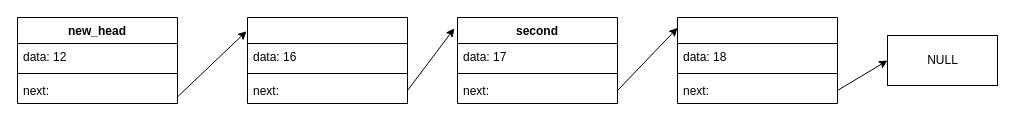
This 1015x124 diagram has some shape labels left out. Each missing label, with the box of its shape:
first: (246, 16, 408, 104)
third: (676, 16, 838, 104)
